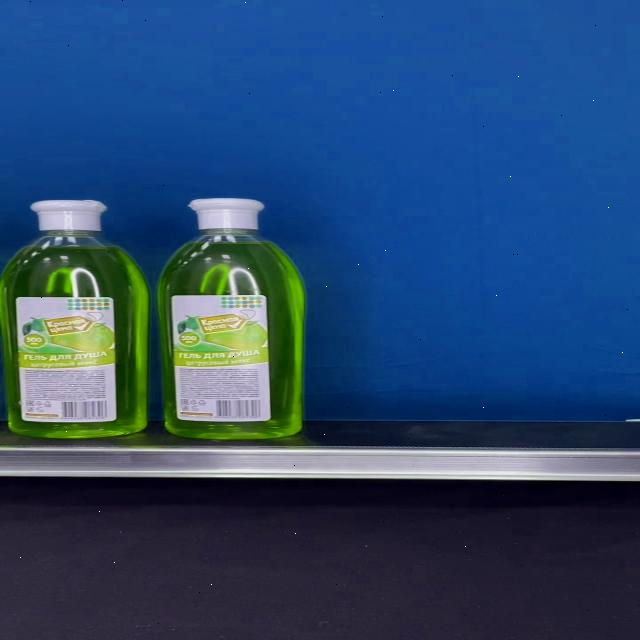Bottle: (0, 200, 149, 440), (159, 198, 304, 439)
Cap: (188, 199, 266, 231), (30, 201, 108, 233)
